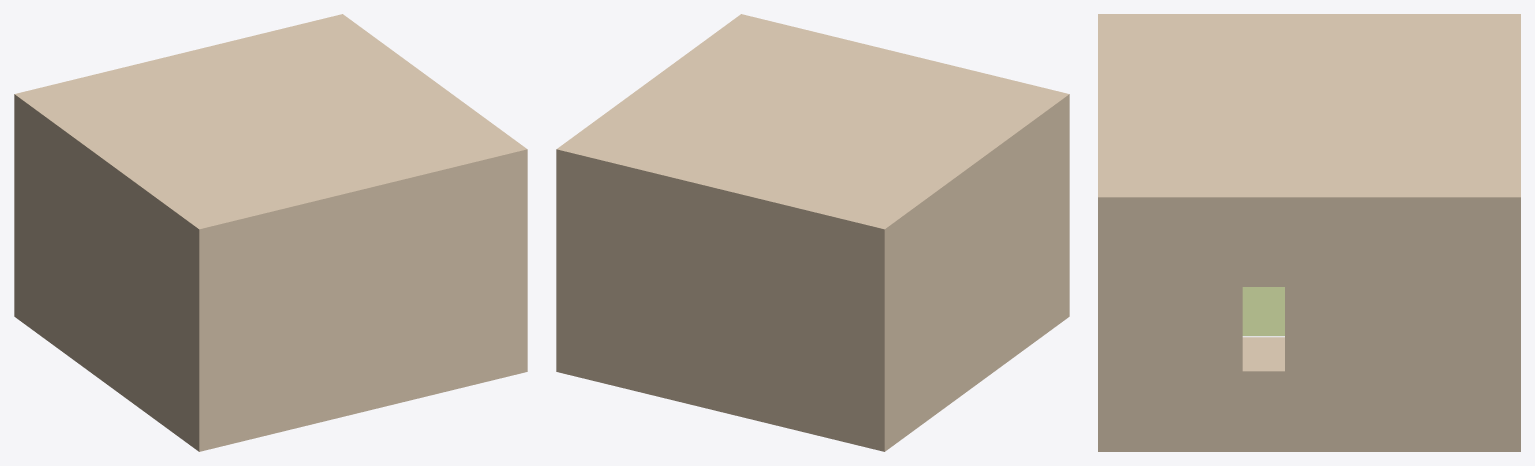
Rendered from trab edu cenario.fbx.
3 renders of one model, left to right at view 1: azimuth 30°, elevation 25°; view 2: azimuth 150°, elevation 25°; view 3: azimuth 270°, elevation 25°, orthographic. The views are drawn at different scales.
Visible parts, largest first — view 1: Cube; view 2: Cube; view 3: Cube.
Part boxes in pixels (<box>): Cube: <box>14,14,527,451</box>; Cube: <box>556,14,1069,451</box>; Cube: <box>1098,14,1520,451</box>.
Size of the model in its own units: 2767 by 1792 by 2697.
